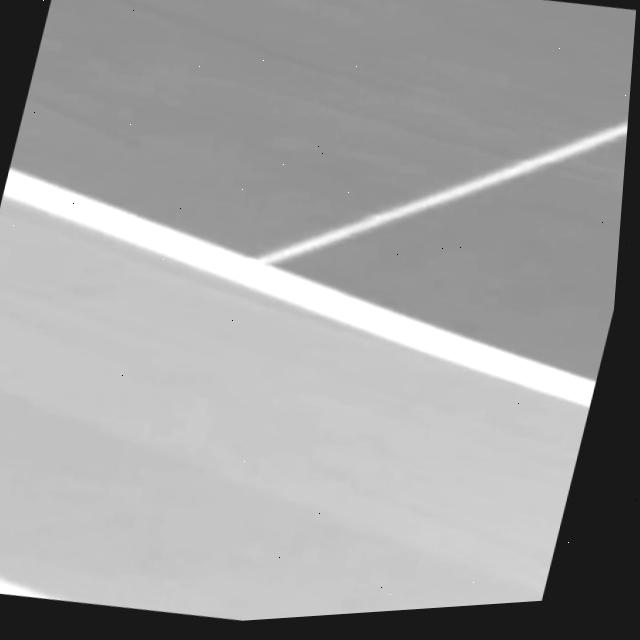right: (3, 167, 596, 404)
